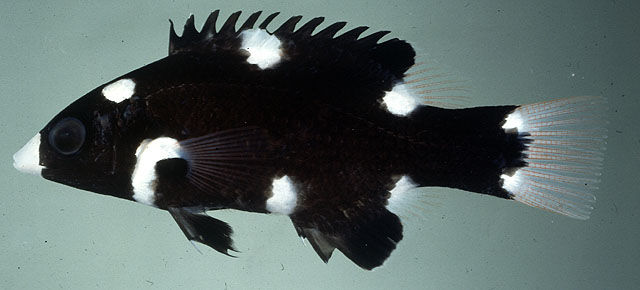fish: (12, 10, 610, 271)
